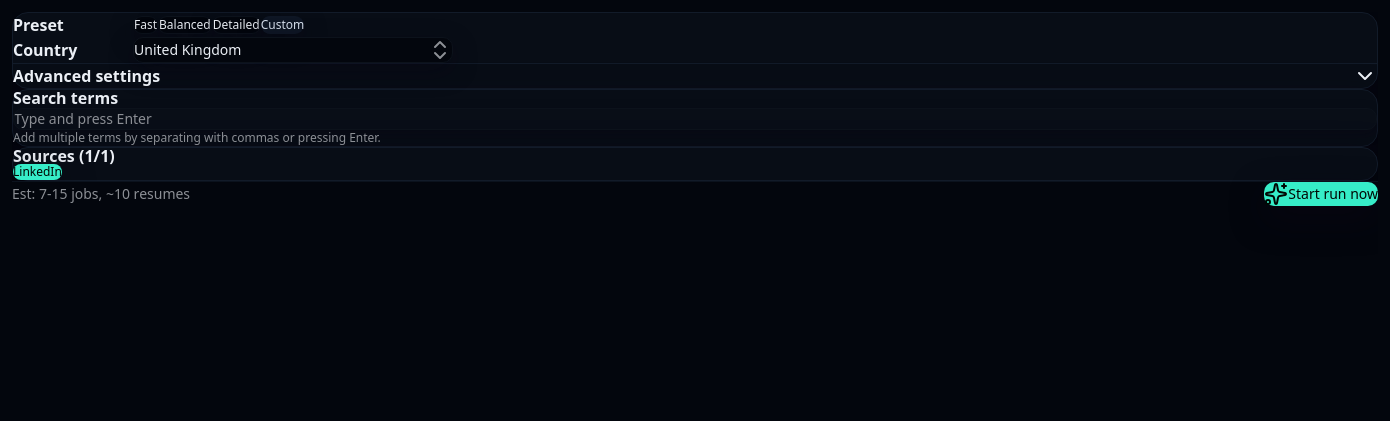
AutomaticRunTab › loads saved workplace types from settings
The width and height of the screenshot is (1390, 421).
Click the button "Advanced settings". click: [87, 76]
box: x1=13 y1=64 x2=1377 y2=88
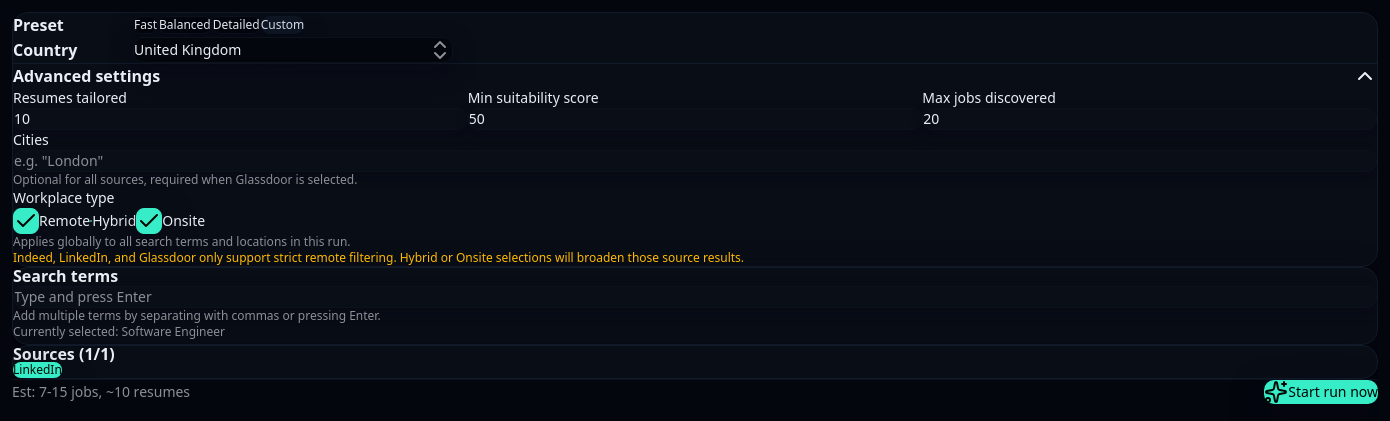
expect the 2nd checkbox named "Hybrid" is not checked: met, box x1=90 y1=220 x2=92 y2=222
expect the 1st checkbox named "Remote" is checked: met, box x1=13 y1=208 x2=39 y2=234
expect the 3rd checkbox named "Onsite" is checked: met, box x1=136 y1=208 x2=162 y2=234
